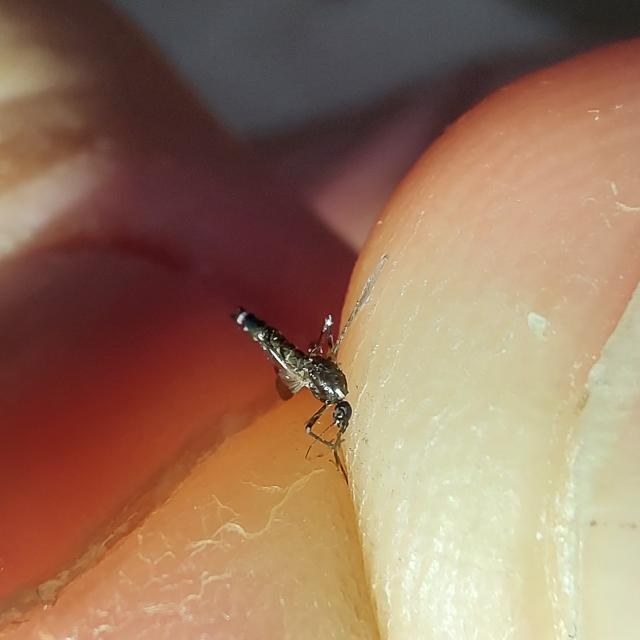albopictus: (223, 293, 361, 474)
